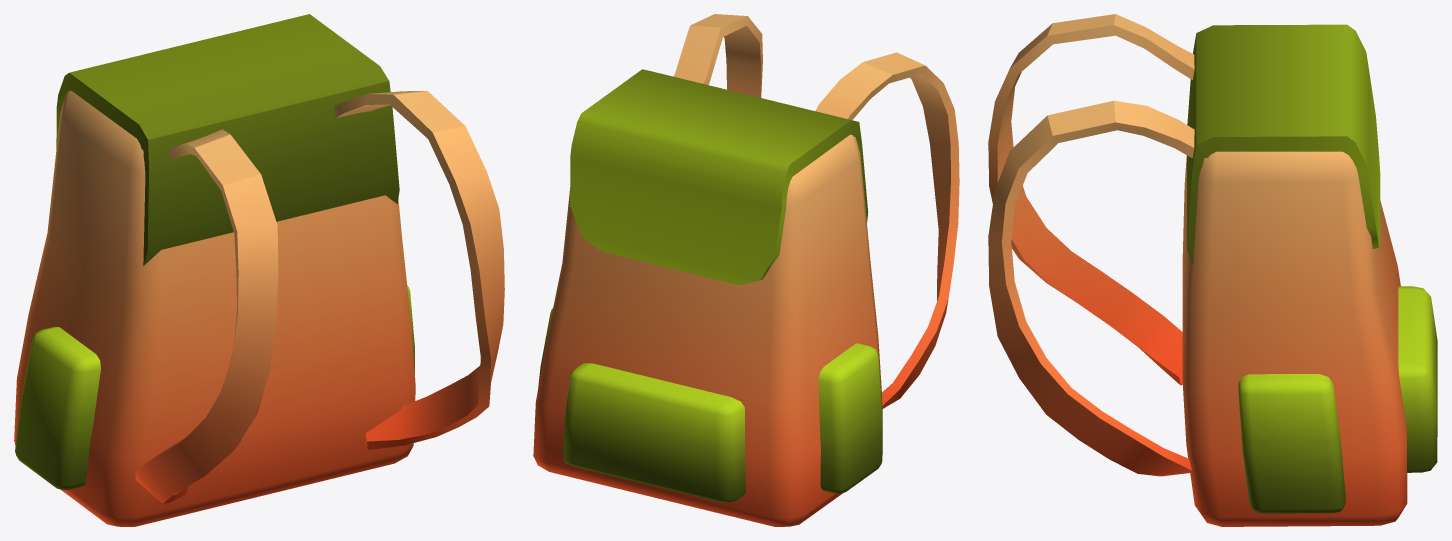
File: SM_Backpack.fbx
3 views of the same model, side by side, from view 1: azimuth 30°, elevation 25°; view 2: azimuth 150°, elevation 25°; view 3: azimuth 270°, elevation 25° (orthographic). The views are drawn at different scales.
Parts seen in each view (by area): view 1: SM_Backpack; view 2: SM_Backpack; view 3: SM_Backpack.
Part boxes in pixels (bbox=[...]): SM_Backpack: bbox=[14, 14, 504, 526]; SM_Backpack: bbox=[533, 14, 959, 526]; SM_Backpack: bbox=[988, 14, 1437, 526].
Bounding box in the file's own units: 1.3 × 1.46 × 1.48.
